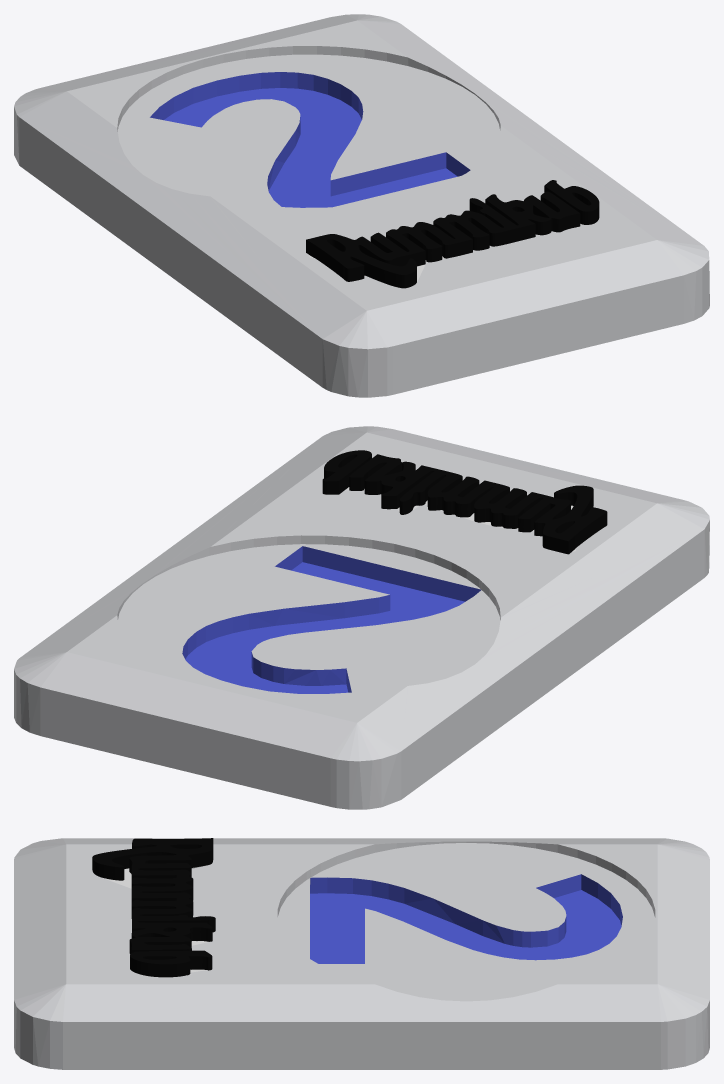
3 views of the same model, one above another, from view 1: azimuth 30°, elevation 25°; view 2: azimuth 150°, elevation 25°; view 3: azimuth 270°, elevation 25° (orthographic).
Parts seen in each view (by area): view 1: Rummikub 2 Fixed; view 2: Rummikub 2 Fixed; view 3: Rummikub 2 Fixed.
Boxes of the visible parts, bbox=[...] form: Rummikub 2 Fixed: bbox=[14, 14, 709, 397]; Rummikub 2 Fixed: bbox=[14, 426, 709, 809]; Rummikub 2 Fixed: bbox=[14, 838, 709, 1069].
Bounding box in the file's own units: 2499 × 487 × 4000.
